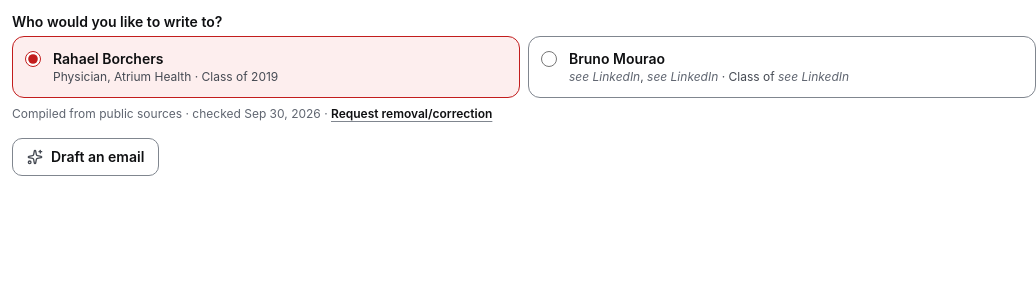
Test: AiColdEmailPanel › renders the not_configured result kind with its message
Click the button "Draft an email" at (86, 157), box [12,138,159,176]
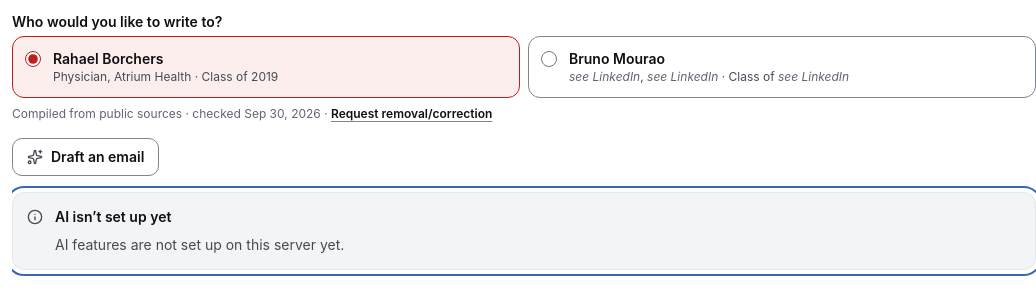
Expected: the message with test id "ai-email-failure" shows "AI features are not set up on this server yet.", [55,236,344,253]
